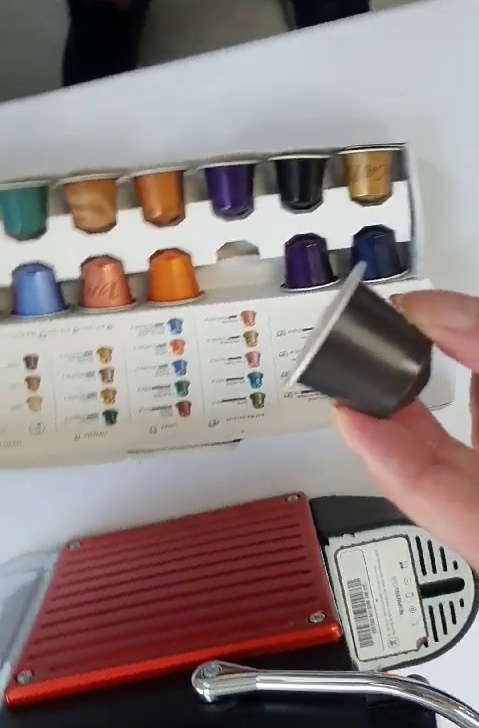capsule_4: (283, 259, 440, 423)
